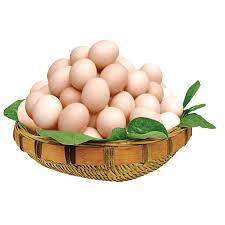egg: (82, 72, 112, 115), (32, 93, 64, 130), (59, 102, 90, 136), (98, 108, 126, 142), (88, 38, 118, 66), (104, 63, 128, 95), (70, 58, 96, 87), (128, 67, 150, 100), (48, 66, 74, 91), (162, 94, 184, 117)
